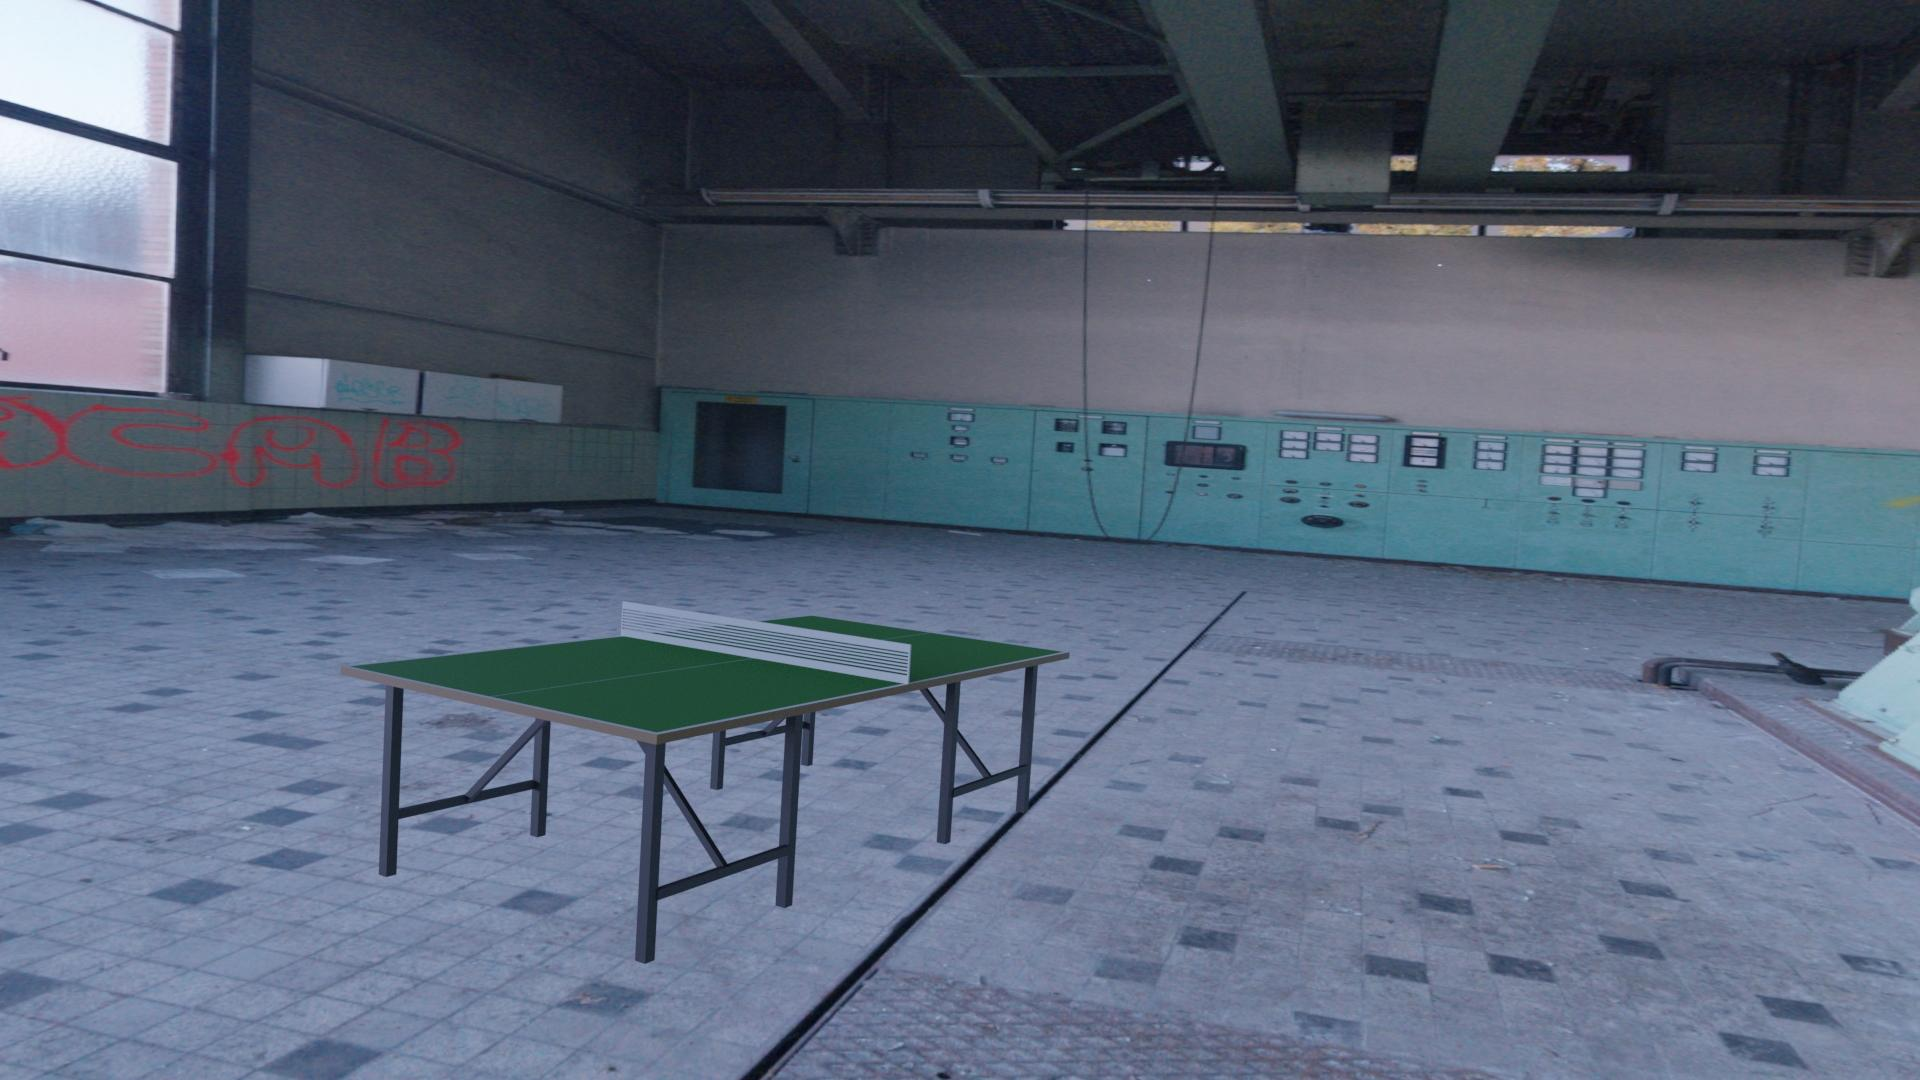table: (349, 616, 1064, 733)
